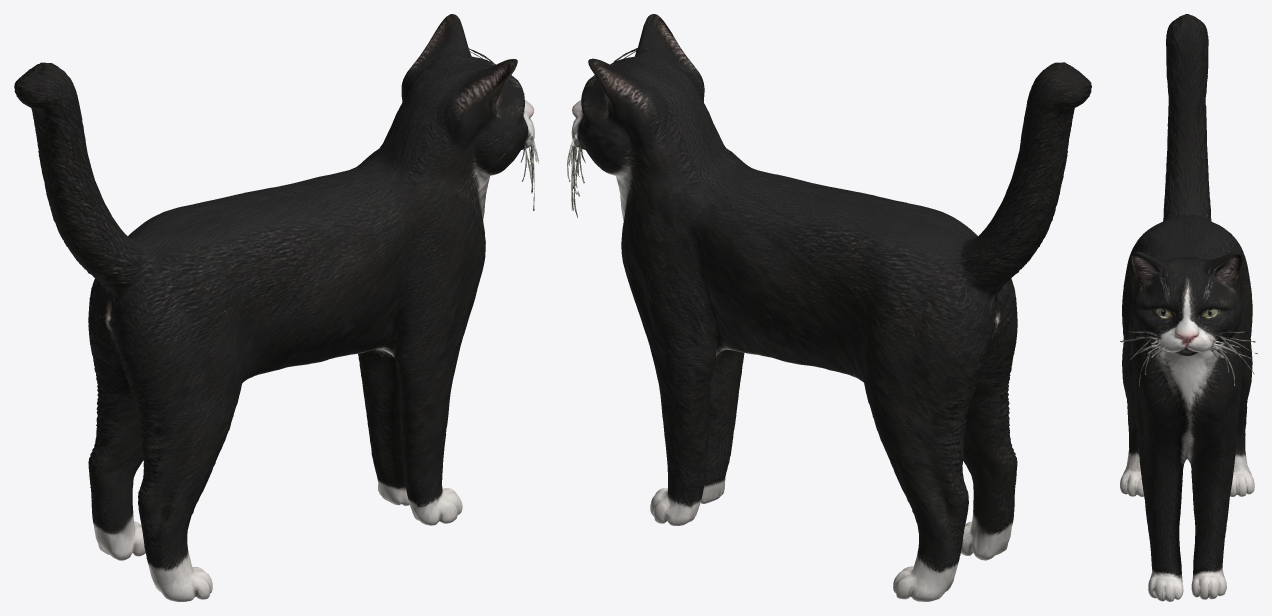
File: CALIBAN.glb
3 renders of one model, left to right at view 1: azimuth 30°, elevation 25°; view 2: azimuth 150°, elevation 25°; view 3: azimuth 270°, elevation 25°, orthographic. The views are drawn at different scales.
Parts seen in each view (by area): view 1: tripo_node_dc03b6f6-1357-4bef-9845-f6b3fe3d11af; view 2: tripo_node_dc03b6f6-1357-4bef-9845-f6b3fe3d11af; view 3: tripo_node_dc03b6f6-1357-4bef-9845-f6b3fe3d11af.
Boxes of the visible parts, <box> form: tripo_node_dc03b6f6-1357-4bef-9845-f6b3fe3d11af: <box>14,14,538,601</box>; tripo_node_dc03b6f6-1357-4bef-9845-f6b3fe3d11af: <box>567,14,1091,601</box>; tripo_node_dc03b6f6-1357-4bef-9845-f6b3fe3d11af: <box>1120,14,1257,601</box>.
Bounding box in the file's own units: 1 × 0.9996 × 0.2885.
Materials: 1 (1 with a texture image).
